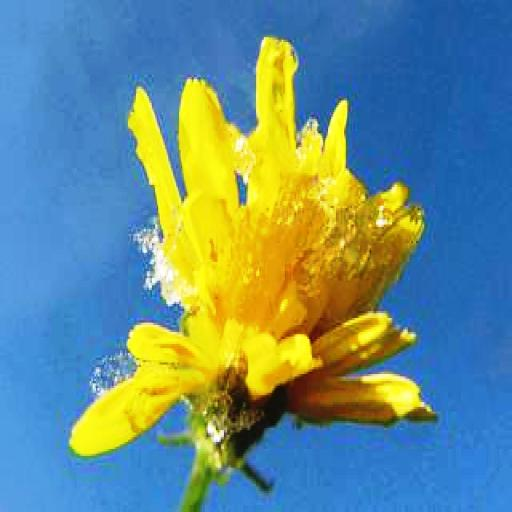dandelion: (74, 42, 424, 463)
